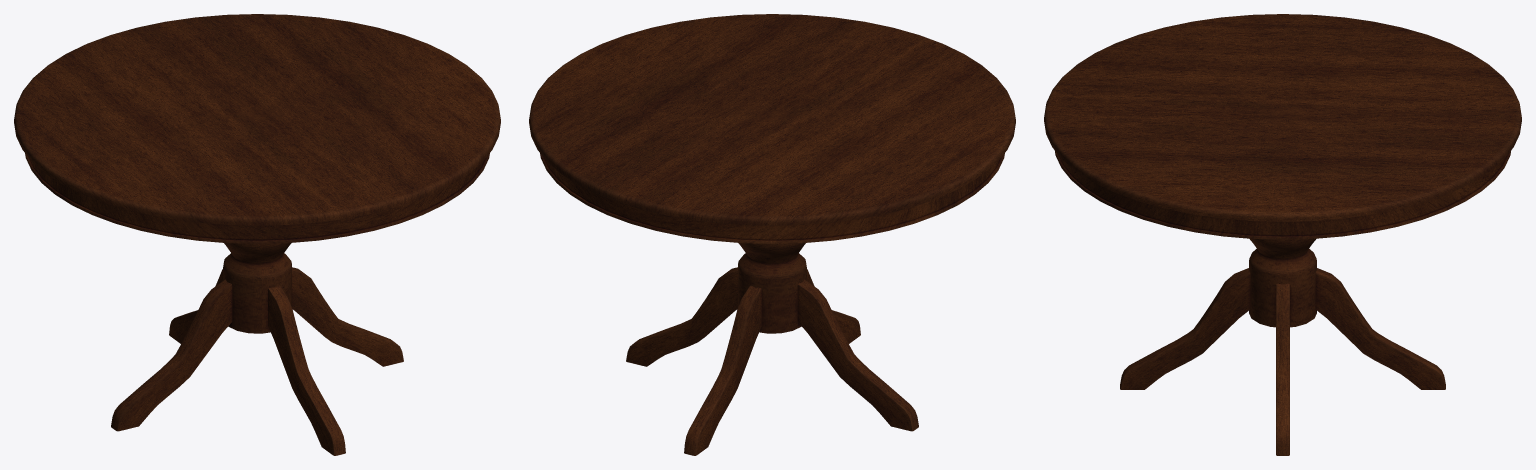
Rendered from TableRetro02.FBX.
The picture shows the model from 3 angles, left to right: view 1: azimuth 30°, elevation 25°; view 2: azimuth 150°, elevation 25°; view 3: azimuth 270°, elevation 25°; orthographic projection.
Visible parts, largest first — view 1: TableRetro02; view 2: TableRetro02; view 3: TableRetro02.
Part boxes in pixels (box(x1,y1,x2,y2)): TableRetro02: box(14, 14, 500, 455); TableRetro02: box(529, 14, 1015, 455); TableRetro02: box(1044, 14, 1521, 455).
Bounding box in the file's own units: 1188 × 750 × 1188.
